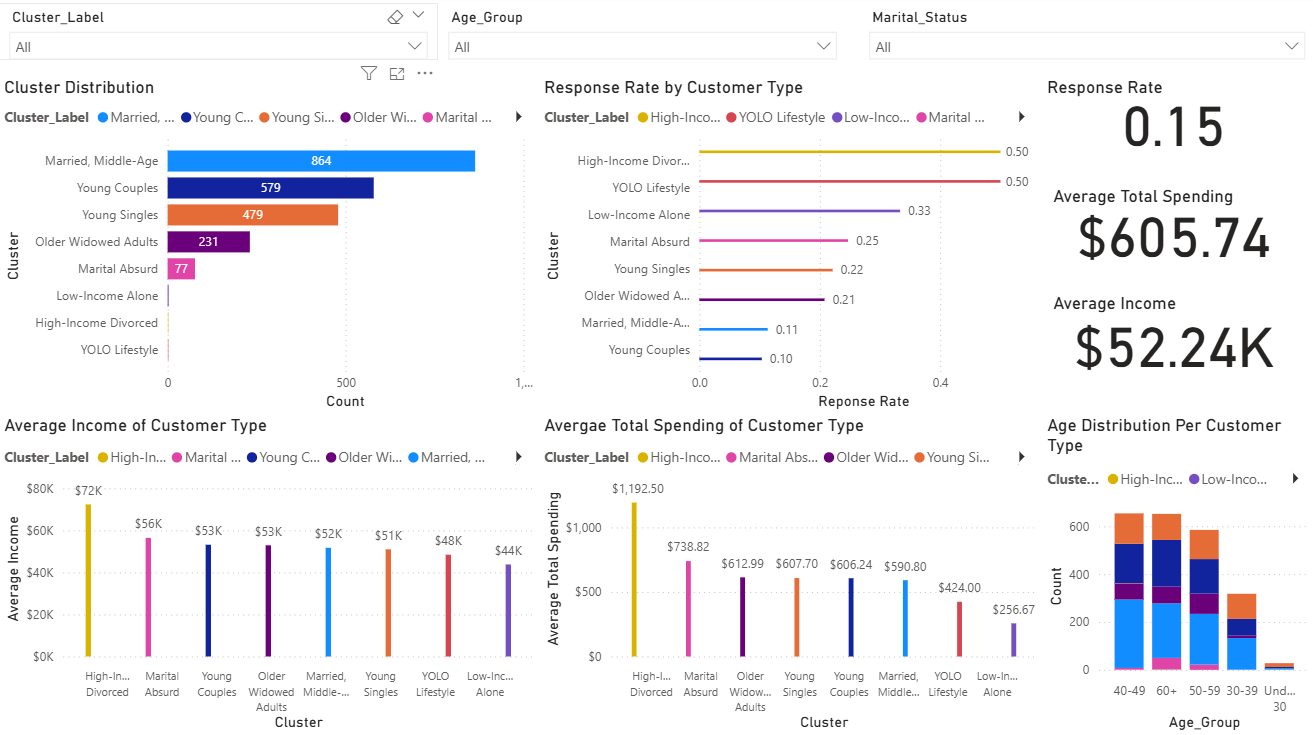

The page's visual inventory and layout, read from the dashboard file:
{"tool":"powerbi","page":{"name":"Marketing Campaign","canvas":[1280,720],"ordinal":0},"visuals":[{"type":"barChart","title":"Cluster Distribution","fields":{"Category":["Marketing_Campaign_Final.Cluster_Label"],"Y":["CountNonNull(Marketing_Campaign_Final.ID)"],"Series":["Marketing_Campaign_Final.Cluster_Label"]},"box":[0,78.8,525.2,328.8],"z":0},{"type":"clusteredColumnChart","title":"Average Income of Customer Type","fields":{"Category":["Marketing_Campaign_Final.Cluster_Label"],"Y":["Avg(Marketing_Campaign_Final.Income)"],"Series":["Marketing_Campaign_Final.Cluster_Label"]},"box":[0,407.5,525.2,312.2],"z":1000},{"type":"clusteredColumnChart","title":"Avergae Total Spending of Customer Type","fields":{"Category":["Marketing_Campaign_Final.Cluster_Label"],"Y":["Avg(Marketing_Campaign_Final.Total_Spending)"],"Series":["Marketing_Campaign_Final.Cluster_Label"]},"box":[525.2,407.5,489.2,312.2],"z":2000},{"type":"columnChart","title":"Age Distribution Per Customer Type","fields":{"Category":["Marketing_Campaign_Final.Age_Group"],"Y":["CountNonNull(Marketing_Campaign_Final.ID)"],"Series":["Marketing_Campaign_Final.Cluster_Label"]},"box":[1014.5,407.5,265.5,312.2],"z":3000},{"type":"clusteredBarChart","title":"Response Rate by Customer Type","fields":{"Category":["Marketing_Campaign_Final.Cluster_Label"],"Y":["Avg(Marketing_Campaign_Final.Response)"],"Series":["Marketing_Campaign_Final.Cluster_Label"]},"box":[525.2,78.8,489.2,328.8],"z":4000},{"type":"slicer","fields":{"Values":["Marketing_Campaign_Final.Cluster_Label"]},"box":[0,6.8,427,55.4],"z":4001},{"type":"slicer","fields":{"Values":["Marketing_Campaign_Final.Age_Group"]},"box":[427,6.8,397.8,55.4],"z":4002},{"type":"slicer","fields":{"Values":["Marketing_Campaign_Final.Marital_Status"]},"box":[836.5,6.8,443.5,55.4],"z":4003},{"type":"card","title":"Response Rate","fields":{"Values":["Avg(Marketing_Campaign_Final.Response)"]},"box":[1014.5,78.8,256.8,81.7],"z":4004},{"type":"card","title":"Average Total Spending","fields":{"Values":["Avg(Marketing_Campaign_Final.Total_Spending)"]},"box":[1020.3,184.8,245.1,86.6],"z":4005},{"type":"card","title":"Average Income","fields":{"Values":["Avg(Marketing_Campaign_Final.Income)"]},"box":[1020.3,288.9,245.1,91.4],"z":4006}]}

Visuals, with their boxes in screenshot pixels (x1, y1, x2, y2), scaled from the page's 1280x720 canvas onto the 1313x735 screenshot:
"Cluster Distribution" barChart: region(0, 80, 539, 416)
"Average Income of Customer Type" clusteredColumnChart: region(0, 416, 539, 734)
"Avergae Total Spending of Customer Type" clusteredColumnChart: region(539, 416, 1041, 734)
"Age Distribution Per Customer Type" columnChart: region(1041, 416, 1312, 734)
"Response Rate by Customer Type" clusteredBarChart: region(539, 80, 1041, 416)
slicer - Marketing_Campaign_Final.Cluster_Label: region(0, 7, 438, 63)
slicer - Marketing_Campaign_Final.Age_Group: region(438, 7, 846, 63)
slicer - Marketing_Campaign_Final.Marital_Status: region(858, 7, 1312, 63)
"Response Rate" card: region(1041, 80, 1304, 164)
"Average Total Spending" card: region(1047, 189, 1298, 277)
"Average Income" card: region(1047, 295, 1298, 388)
